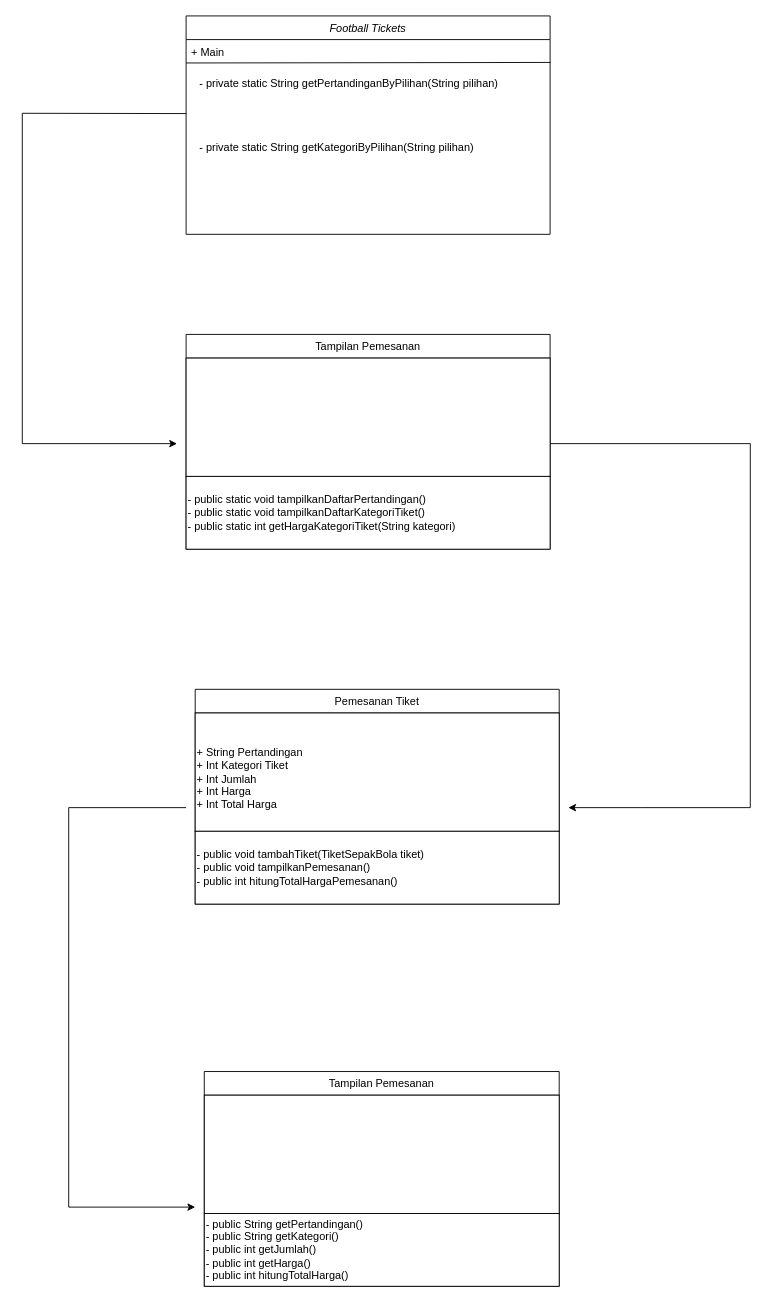
Some shapes in this 774 by 1302 pixel diagram are drawn without their labels. The shapes that lost their labels are listed below. From the top down, each one's centre as x and y in pixels, then its label:
[367,416]: + String Pertandingan + Int Kategori Tiket
[381,1153]: + String name : + String Pertandingan + Int Kategori + Int Jumlah + Int Harga
